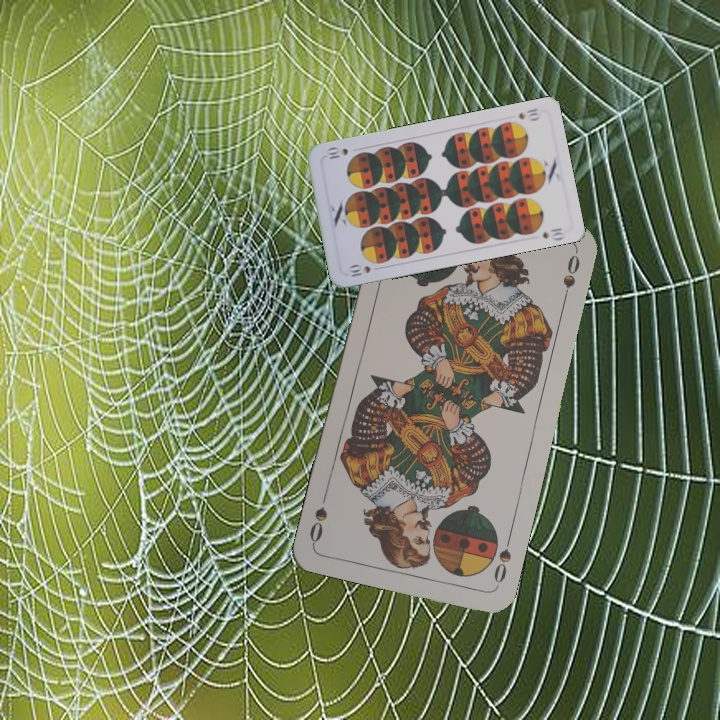S10: (344, 261, 373, 279), (514, 104, 543, 122)
SO: (489, 532, 514, 590)
